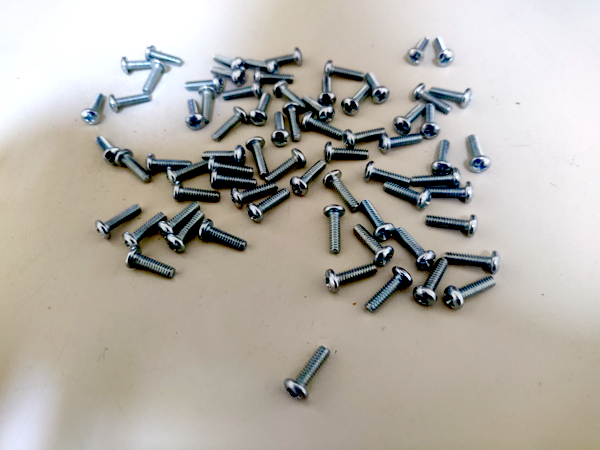shortscrew: (285, 345, 331, 400), (365, 267, 413, 314), (393, 227, 437, 270), (444, 276, 497, 311), (352, 224, 395, 267), (95, 203, 143, 240), (123, 212, 167, 251), (414, 258, 449, 307), (323, 170, 362, 212), (167, 210, 205, 253), (126, 247, 177, 279), (324, 264, 378, 294), (159, 202, 201, 239), (247, 188, 291, 223), (199, 220, 248, 251), (360, 199, 395, 242), (265, 149, 307, 184), (382, 182, 432, 211), (445, 251, 501, 276), (290, 160, 327, 197), (212, 107, 250, 143), (231, 183, 279, 210), (115, 149, 152, 184), (412, 84, 453, 115), (365, 161, 412, 188), (425, 215, 479, 238), (302, 112, 344, 141), (272, 80, 308, 111), (324, 203, 345, 255), (173, 181, 222, 203), (393, 103, 425, 136), (412, 168, 462, 189), (166, 161, 210, 184), (208, 156, 254, 178), (430, 86, 472, 110), (342, 84, 372, 117), (431, 181, 474, 204), (211, 169, 258, 190), (379, 132, 423, 154), (302, 96, 336, 124), (246, 137, 268, 180), (324, 142, 369, 162), (142, 59, 167, 95), (469, 135, 492, 174), (324, 60, 366, 81), (147, 153, 192, 172), (80, 93, 105, 127), (365, 71, 390, 105), (109, 93, 151, 113), (343, 128, 385, 148), (202, 145, 246, 164), (222, 82, 262, 102), (145, 46, 183, 67), (283, 102, 303, 141), (432, 140, 453, 176), (249, 92, 271, 126), (271, 112, 291, 148), (421, 104, 441, 139), (96, 135, 120, 164), (407, 37, 431, 65), (211, 67, 246, 86), (254, 68, 295, 84), (265, 48, 303, 65), (186, 99, 206, 131), (184, 76, 224, 92), (434, 37, 454, 68), (121, 56, 153, 75), (213, 54, 245, 72), (318, 77, 336, 107), (245, 58, 278, 74)
